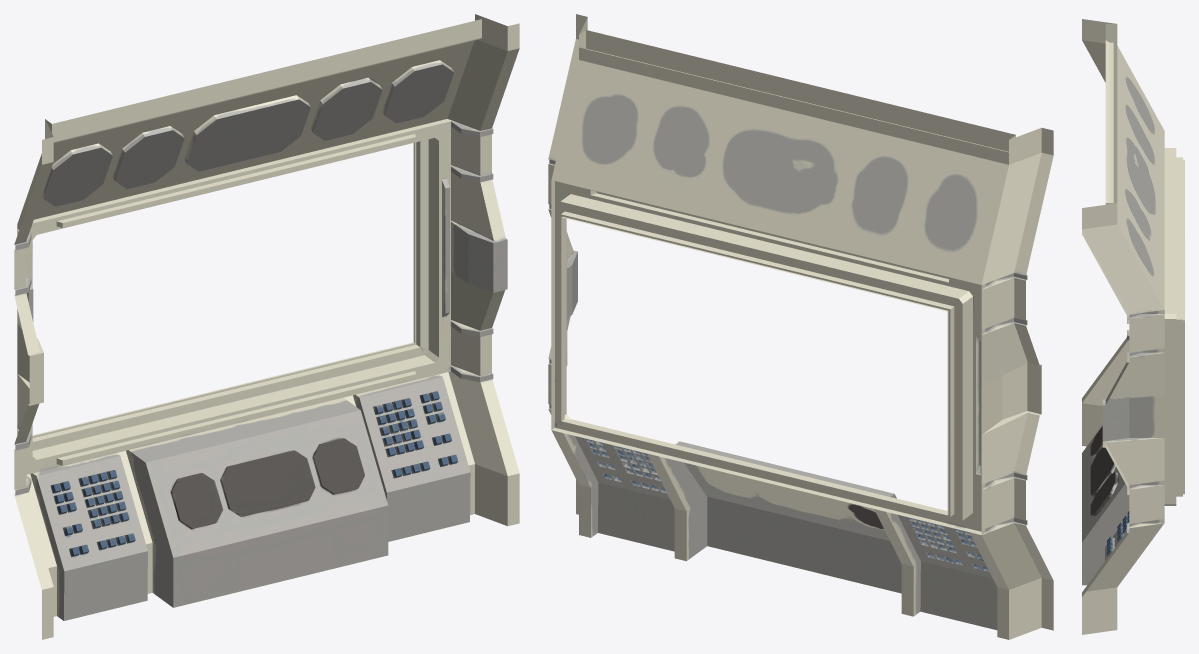
File: Wall_straight_window.fbx
3 renders of one model, left to right at view 1: azimuth 30°, elevation 25°; view 2: azimuth 150°, elevation 25°; view 3: azimuth 270°, elevation 25°, orthographic. The views are drawn at different scales.
Visible parts, largest first — view 1: node_id9 (×2); view 2: node_id9 (×2); view 3: node_id9 (×2).
Boxes of the visible parts, x1,y1,x2,y2 form: node_id9 (×2): (14,14,519,639); node_id9 (×2): (548,14,1053,639); node_id9 (×2): (1082,19,1184,634).
Bounding box in the file's own units: 0.512 × 0.512 × 0.1118.
4 materials, 4 textured.
